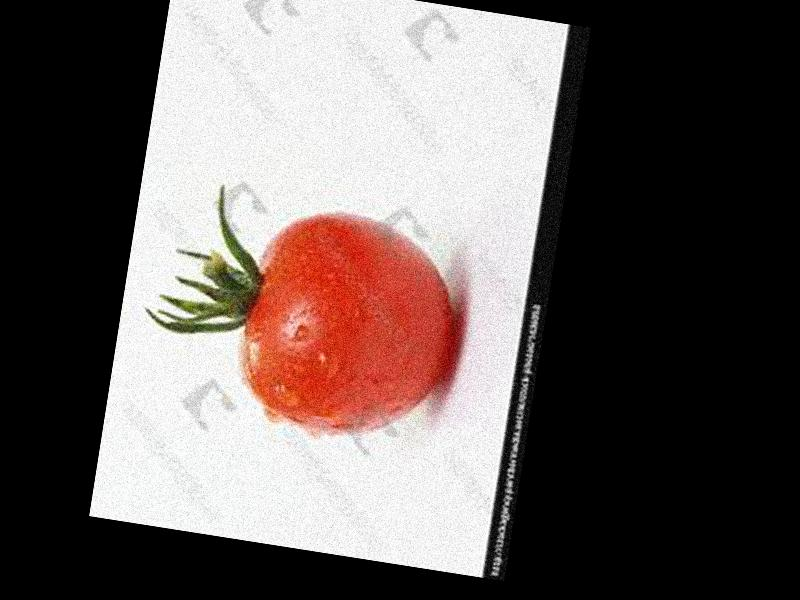Tomato: (233, 201, 468, 449)
